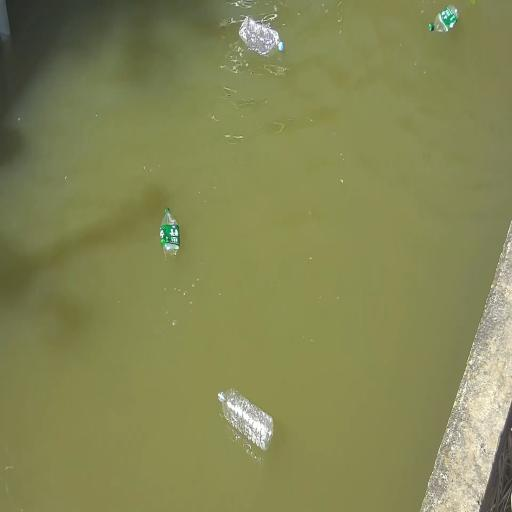plastic: (218, 389, 273, 450), (239, 17, 283, 56), (160, 208, 180, 260), (429, 5, 458, 32)
